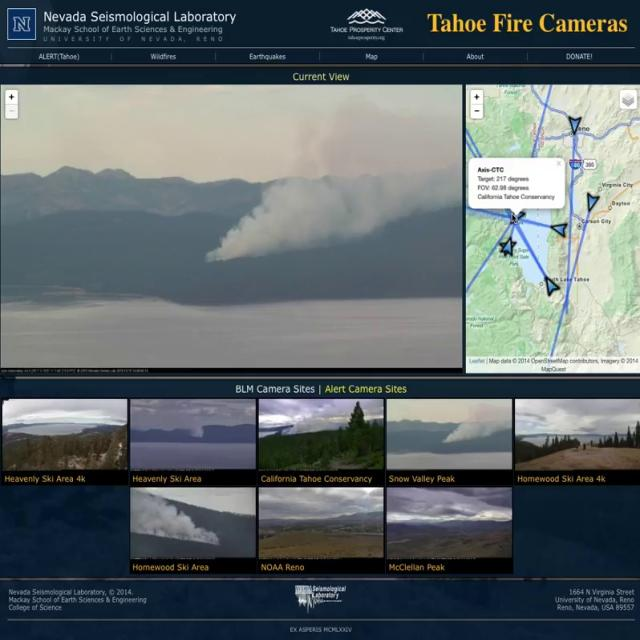smoke: (195, 88, 458, 266)
